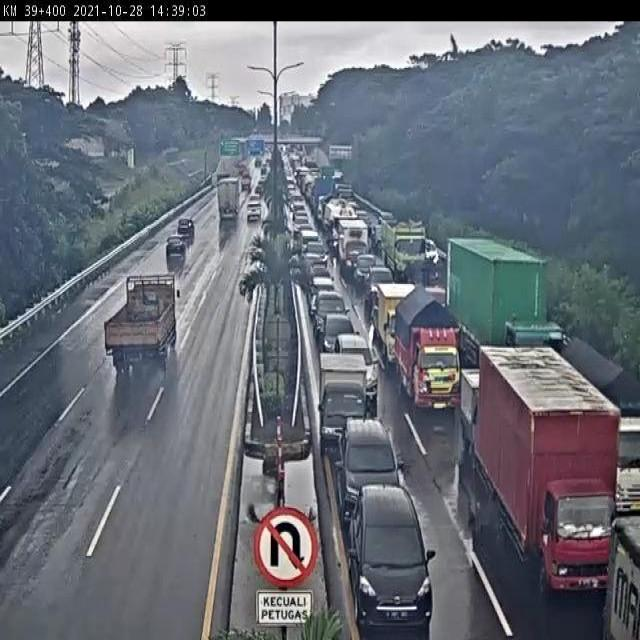big truck: (472, 333, 620, 598), (443, 230, 568, 370), (604, 496, 640, 640), (378, 210, 437, 286), (213, 172, 243, 229)
car: (344, 480, 440, 640), (306, 346, 387, 450), (334, 416, 411, 524), (312, 288, 353, 344), (319, 314, 358, 362), (157, 231, 187, 269), (169, 213, 199, 243), (238, 189, 264, 223)
small truck: (95, 263, 191, 400), (394, 283, 461, 413), (314, 348, 375, 457)
